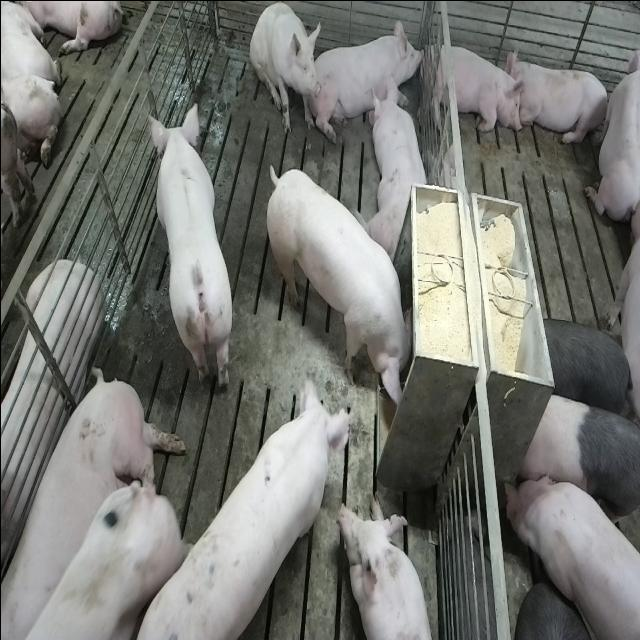Feeding: (270, 163, 420, 413)
Lateral_lying: (0, 259, 103, 576)
Sitting: (248, 2, 320, 136)
Standing: (130, 375, 361, 640), (4, 461, 191, 640), (150, 105, 233, 398), (502, 467, 638, 640), (516, 386, 638, 538), (534, 314, 636, 424)
Sternal_lying: (338, 495, 437, 640), (315, 11, 424, 139), (366, 78, 430, 258), (583, 34, 637, 224), (424, 36, 523, 138), (510, 52, 610, 150)
